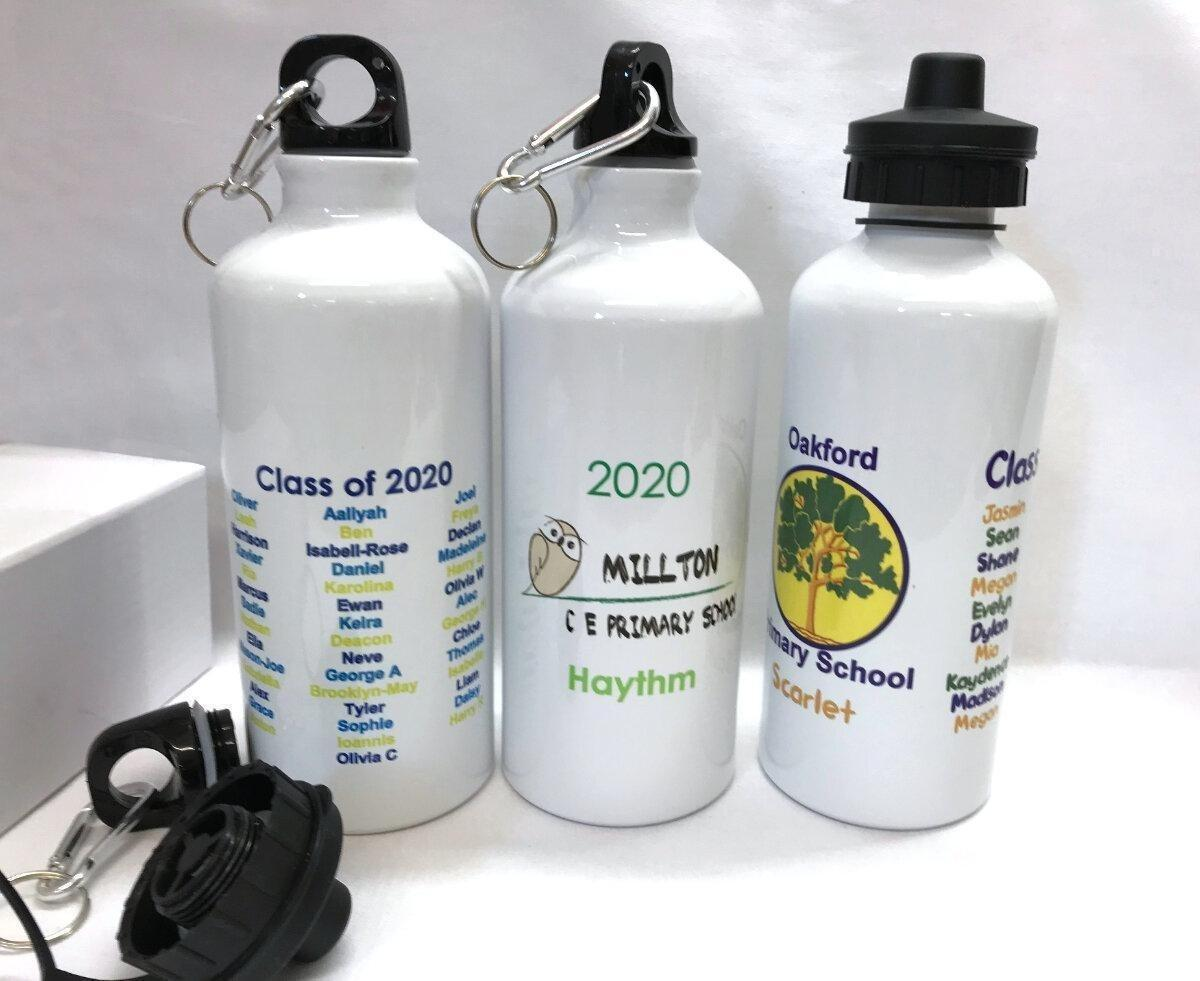gym bottle: (757, 45, 1064, 835), (203, 30, 500, 838), (497, 36, 767, 832)
